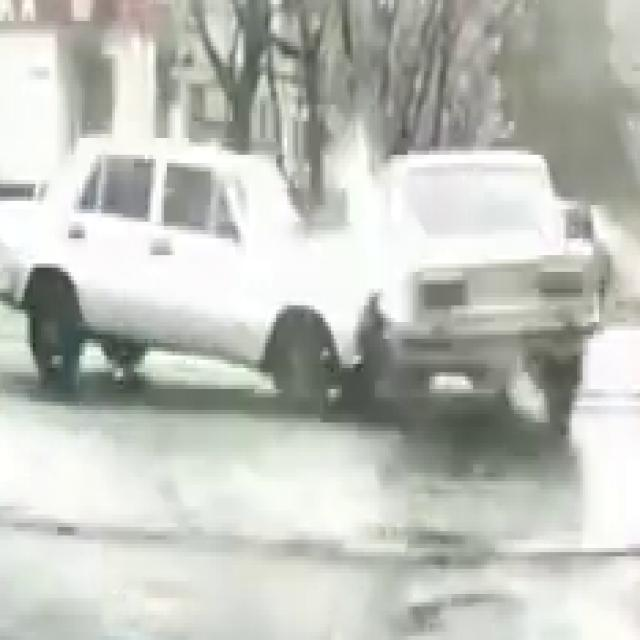accident: (60, 141, 592, 426)
